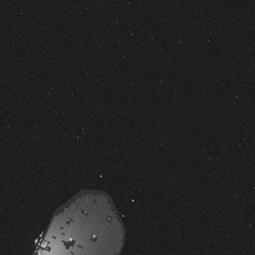lisa_pathfinder: (26, 175, 134, 255)
